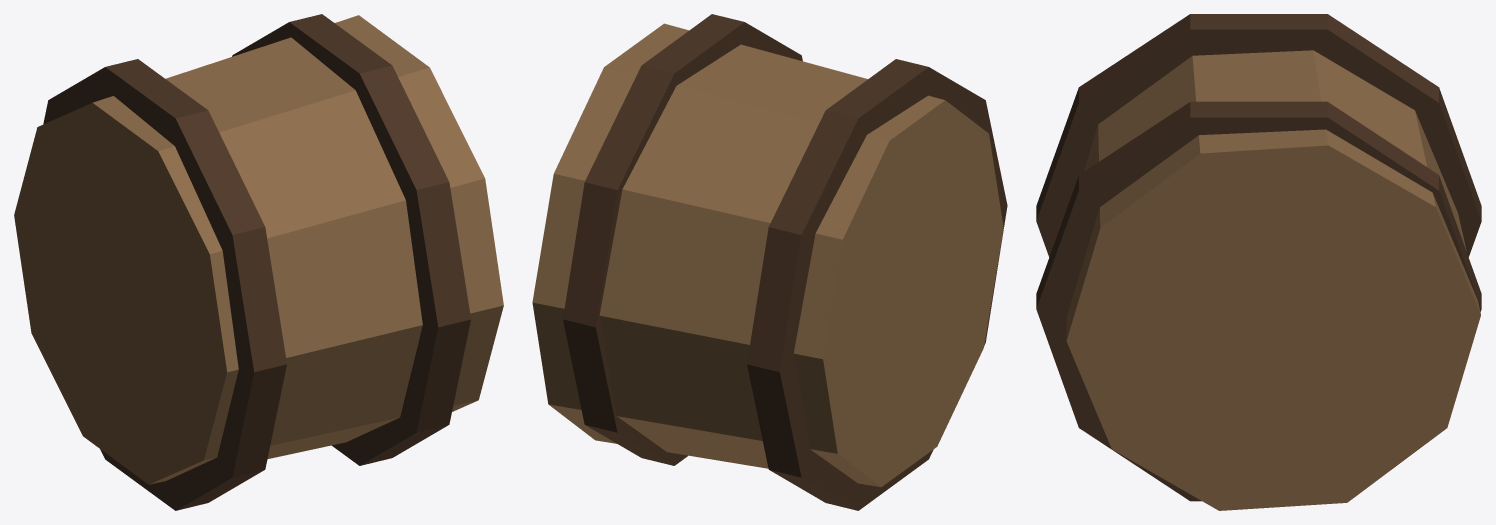
File: stonebrow_bracer_r.glb
3 views of the same model, side by side, from view 1: azimuth 30°, elevation 25°; view 2: azimuth 150°, elevation 25°; view 3: azimuth 270°, elevation 25° (orthographic). The views are drawn at different scales.
Parts seen in each view (by area): view 1: stonebrow_bracer_r; view 2: stonebrow_bracer_r; view 3: stonebrow_bracer_r.
Boxes of the visible parts, bbox=[...] form: stonebrow_bracer_r: bbox=[14, 14, 503, 510]; stonebrow_bracer_r: bbox=[532, 14, 1007, 510]; stonebrow_bracer_r: bbox=[1036, 14, 1481, 510].
Bounding box in the file's own units: 0.2228 × 0.2853 × 0.3.
